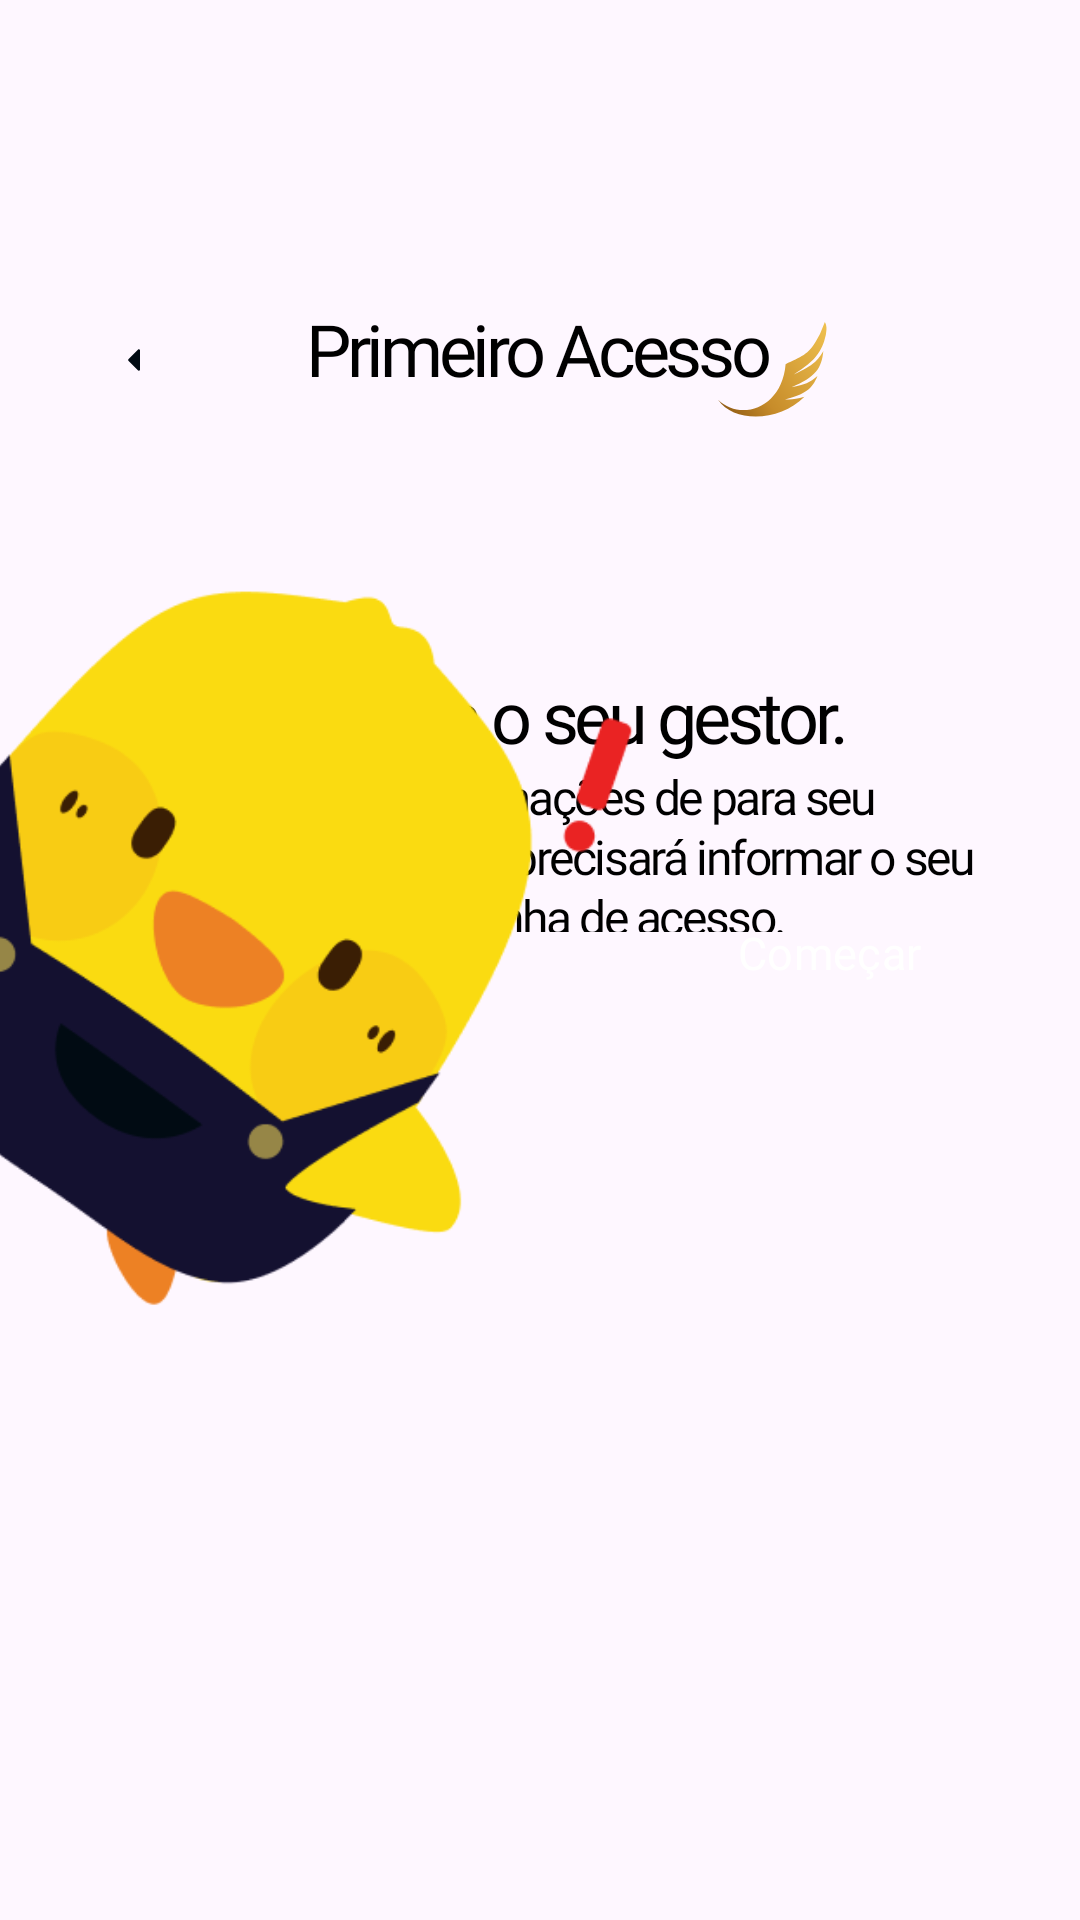

Screen size 1080w x 1920h. Icon name, then its box in pixels as (x1, y1, x2, y2):
ouros goldwings: (718, 322, 827, 417)
